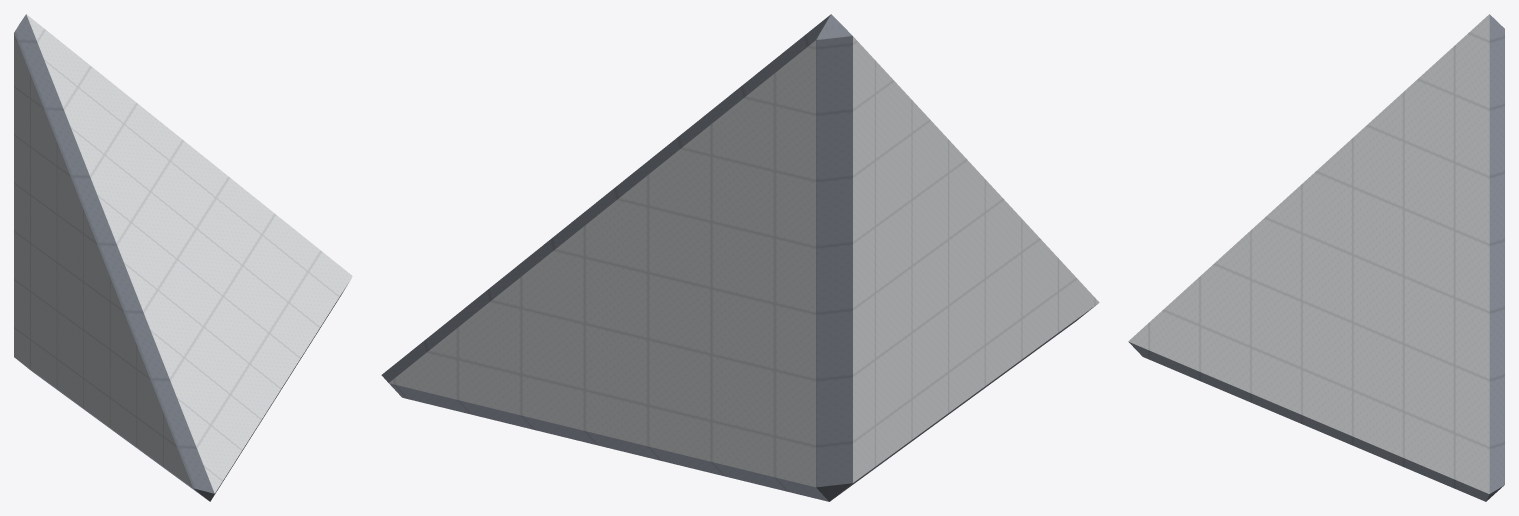
File: R4B_Tetra_LOD1.glb
3 views of the same model, side by side, from view 1: azimuth 30°, elevation 25°; view 2: azimuth 150°, elevation 25°; view 3: azimuth 270°, elevation 25° (orthographic). The views are drawn at different scales.
Visible parts, largest first — view 1: R4B_Tetra_LOD1; view 2: R4B_Tetra_LOD1; view 3: R4B_Tetra_LOD1.
Boxes of the visible parts, <box> form: R4B_Tetra_LOD1: <box>14,14,352,501</box>; R4B_Tetra_LOD1: <box>381,14,1099,501</box>; R4B_Tetra_LOD1: <box>1128,14,1504,501</box>.
Size of the model in its own units: 0.4808 by 0.4808 by 0.4808.
Materials: 2 (2 with a texture image).
